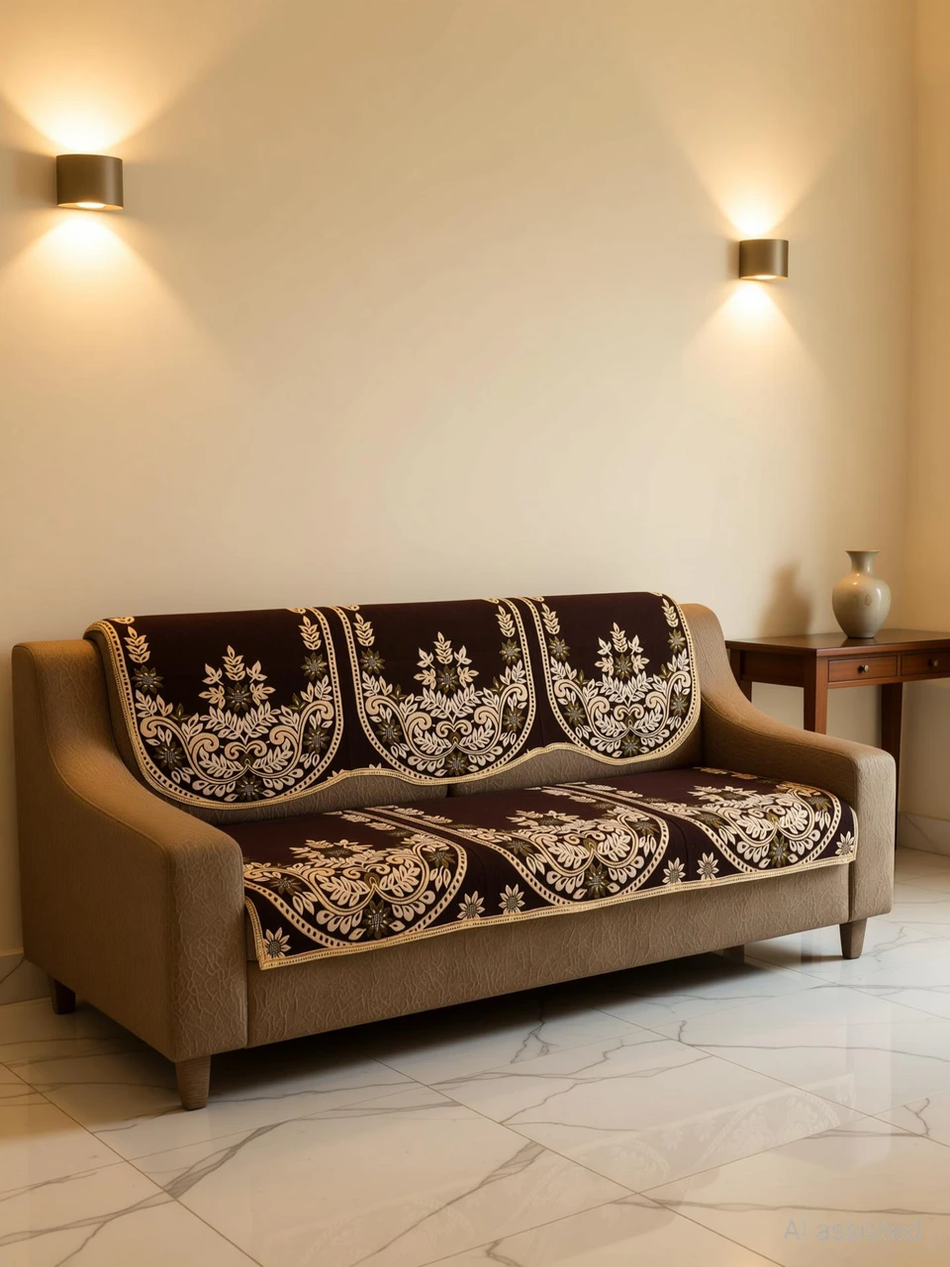3seatersofa: (14, 593, 894, 1109)
backrest: (87, 592, 698, 821)
base: (247, 866, 848, 1046)
leftarmrest: (697, 612, 895, 919)
leg: (176, 1057, 210, 1110), (841, 921, 866, 959), (50, 978, 74, 1014)
rightarmrest: (14, 640, 247, 1063)
seat: (233, 767, 857, 969)
